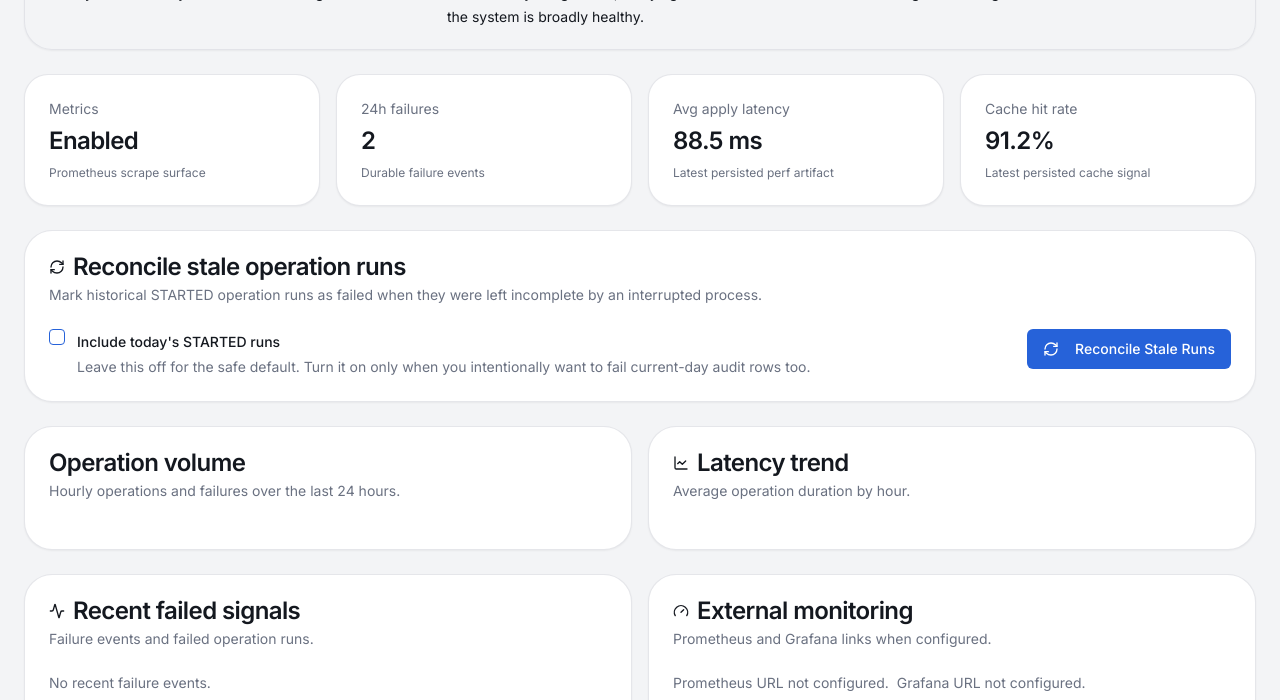
Test: Admin page › runs stale operation reconciliation without current-day override by default
(page scrolled)
What coordinates should you click on to do the following:
click the button "Reconcile Stale Runs"
I would click on:
 (1129, 348)
Its box is [1027, 328, 1231, 368].
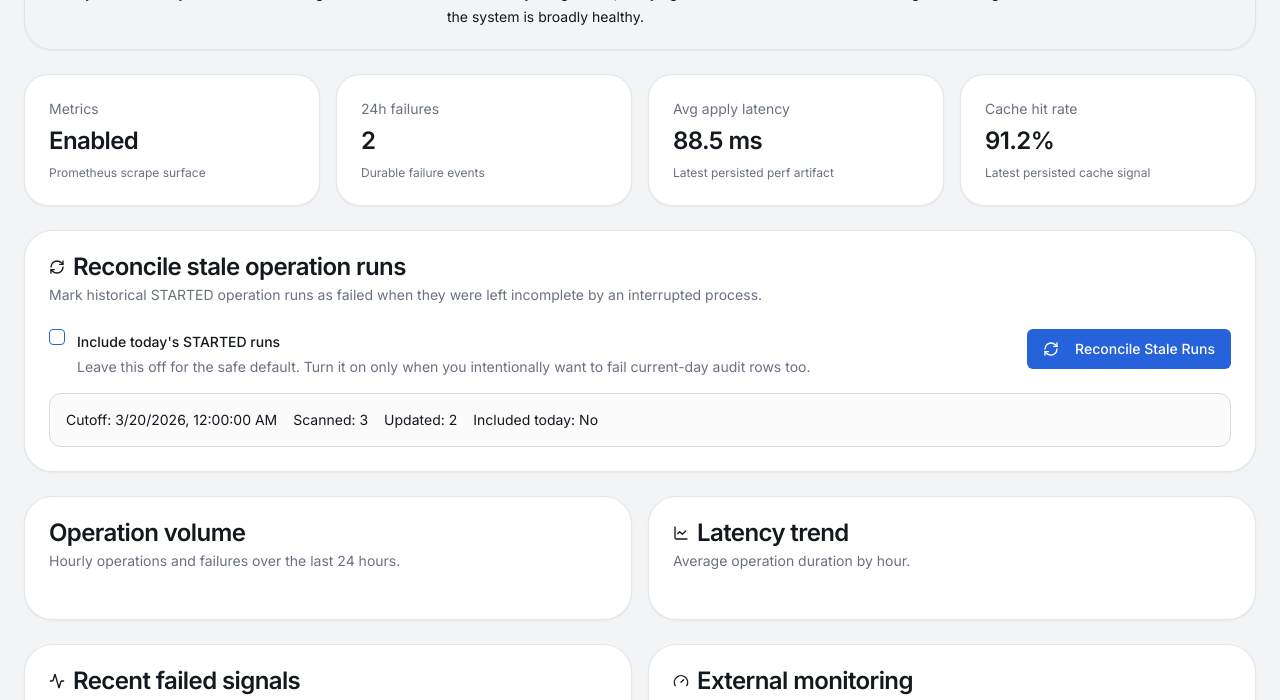
Now the text "Scanned: 3" is shown, box [293, 410, 368, 430]
Now the text "Updated: 2" is shown, box [384, 410, 457, 430]
Now the text "Included today: No" is shown, box [473, 410, 598, 430]
